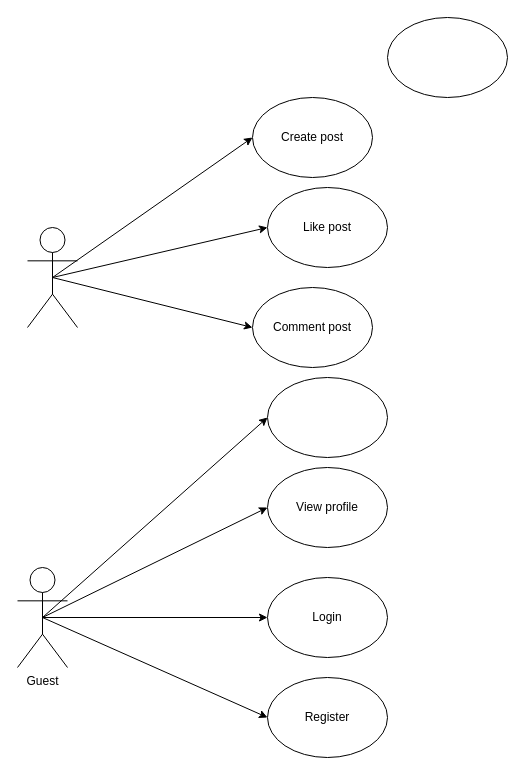
Image size: 525x775. Some labels were removed from this diagram. Each missing label, with the centre of its shape:
"authenticator" goes at point 447,57.
"User" goes at point 52,277.
"View post" goes at point 327,417.
